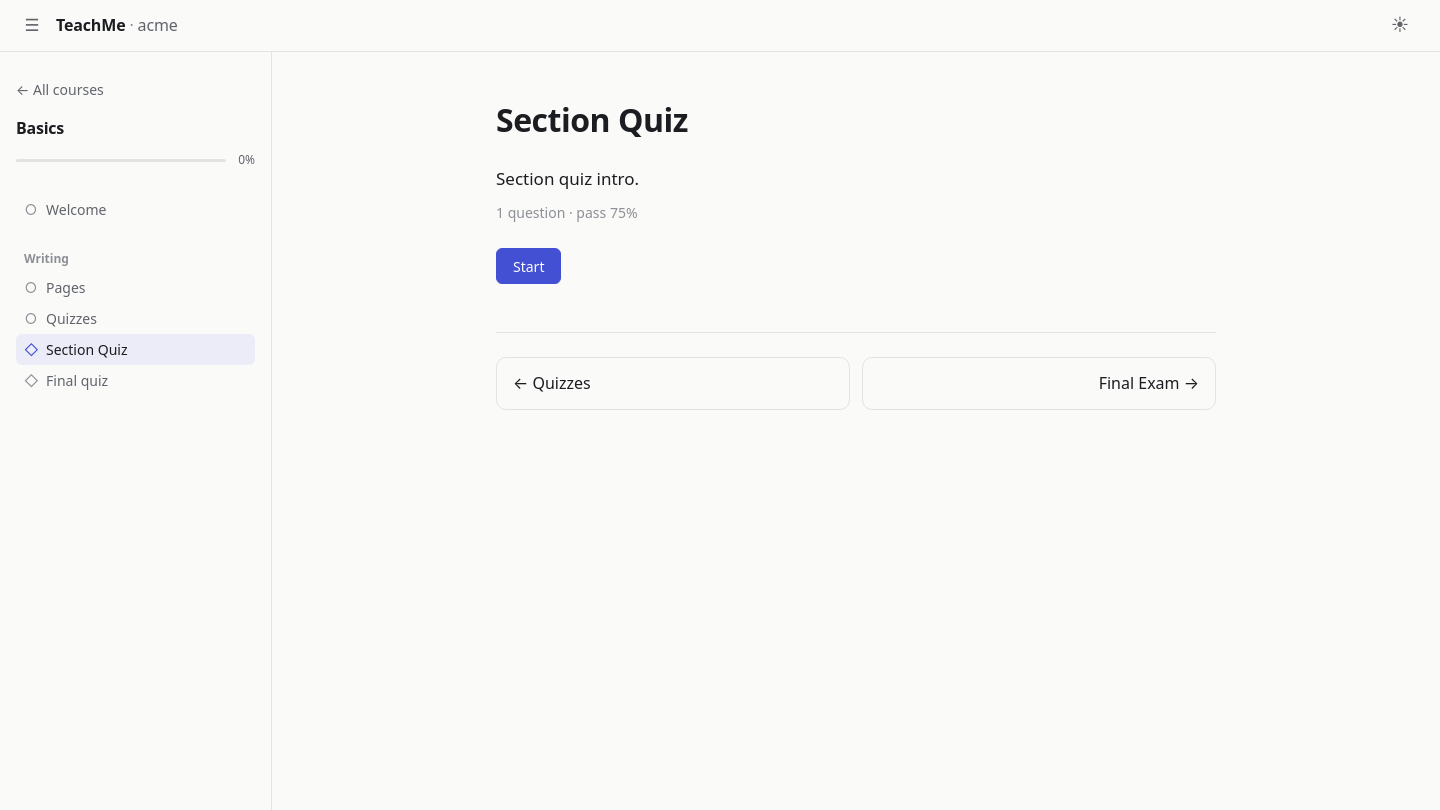
Test: CourseView › quiz item runs inline and Continue moves to the next TOC item
Expected: the heading "Section Quiz" is shown, [496,98,688,141]
Expected: the element with id "course-toc" is shown, [0,52,272,809]
Click the button "Start": (529, 266) [496,248,561,284]
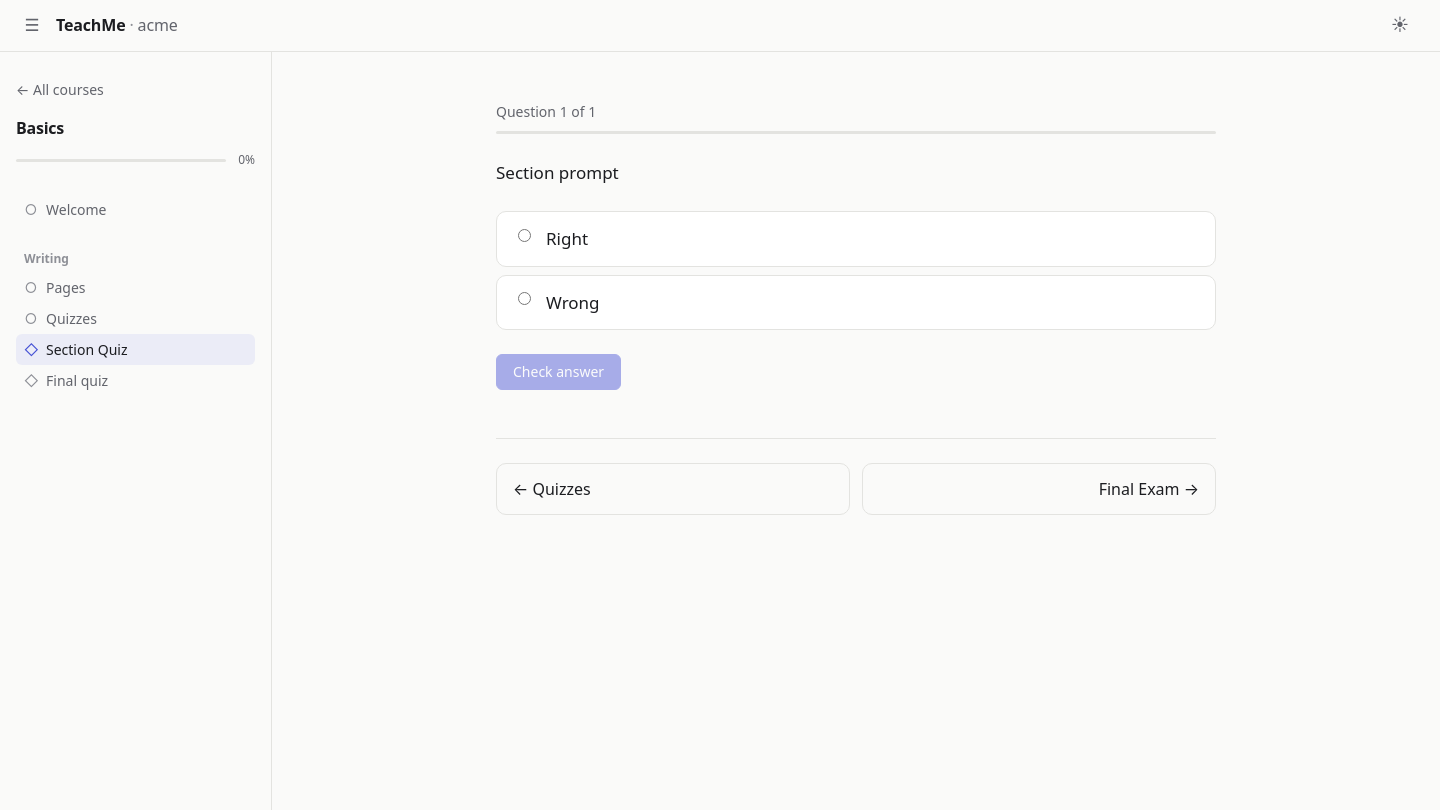
Result: the text "Question 1 of 1" is shown at [496,102,596,121]
Click the radio button labelled "Right": (524, 236) [518,229,531,242]
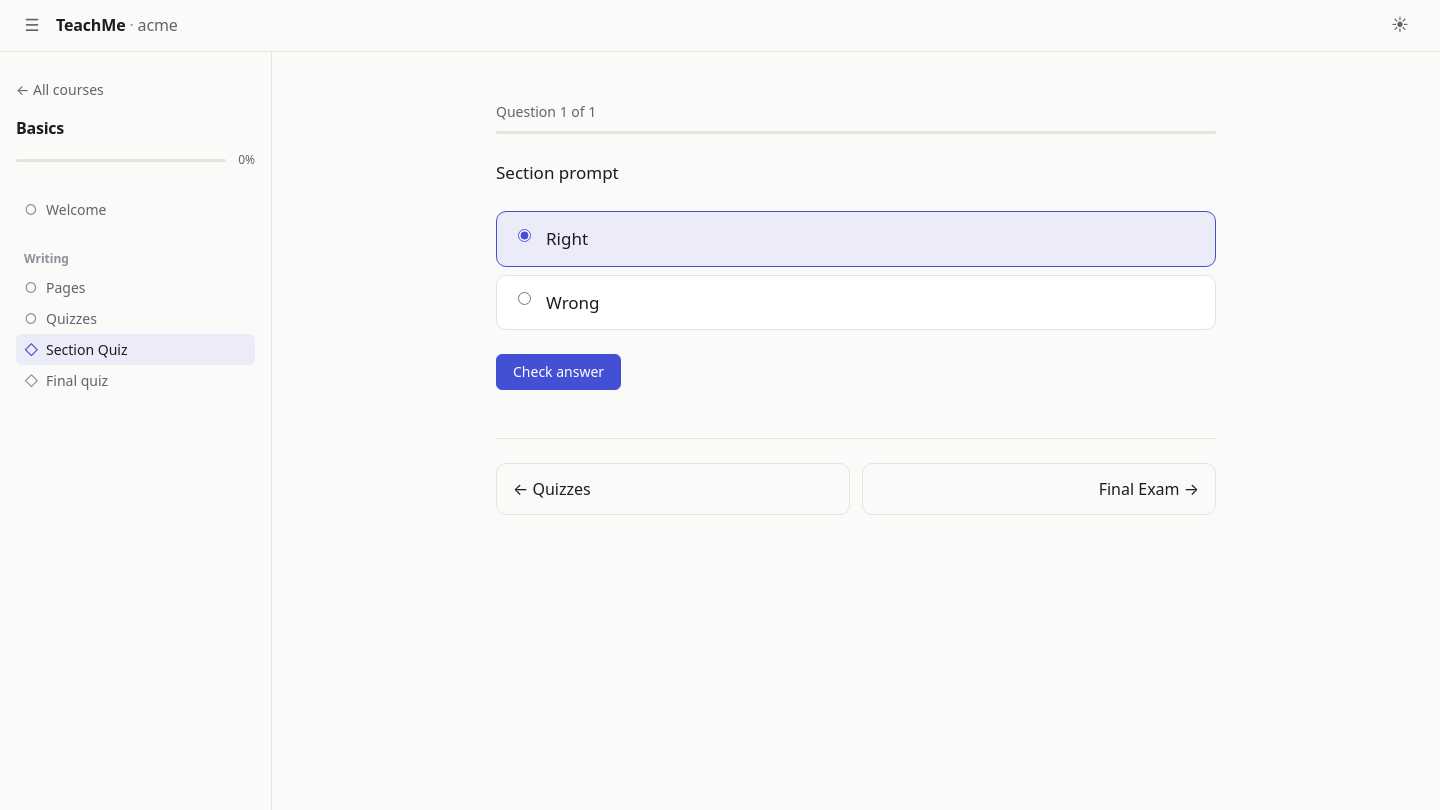
Click the button "Check answer": (559, 372) [496,354,621,390]
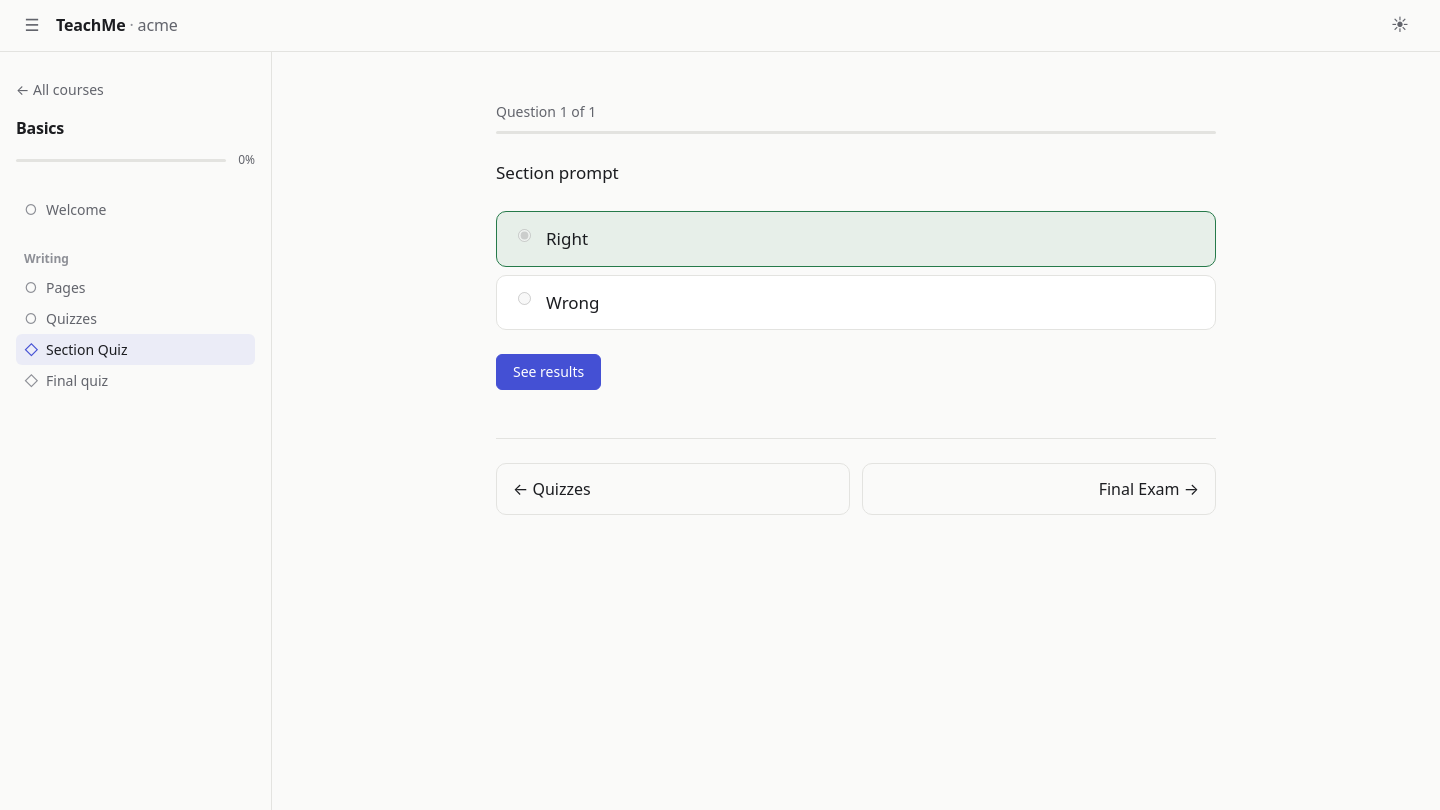
Click the button "See results": (549, 372) [496,354,601,390]
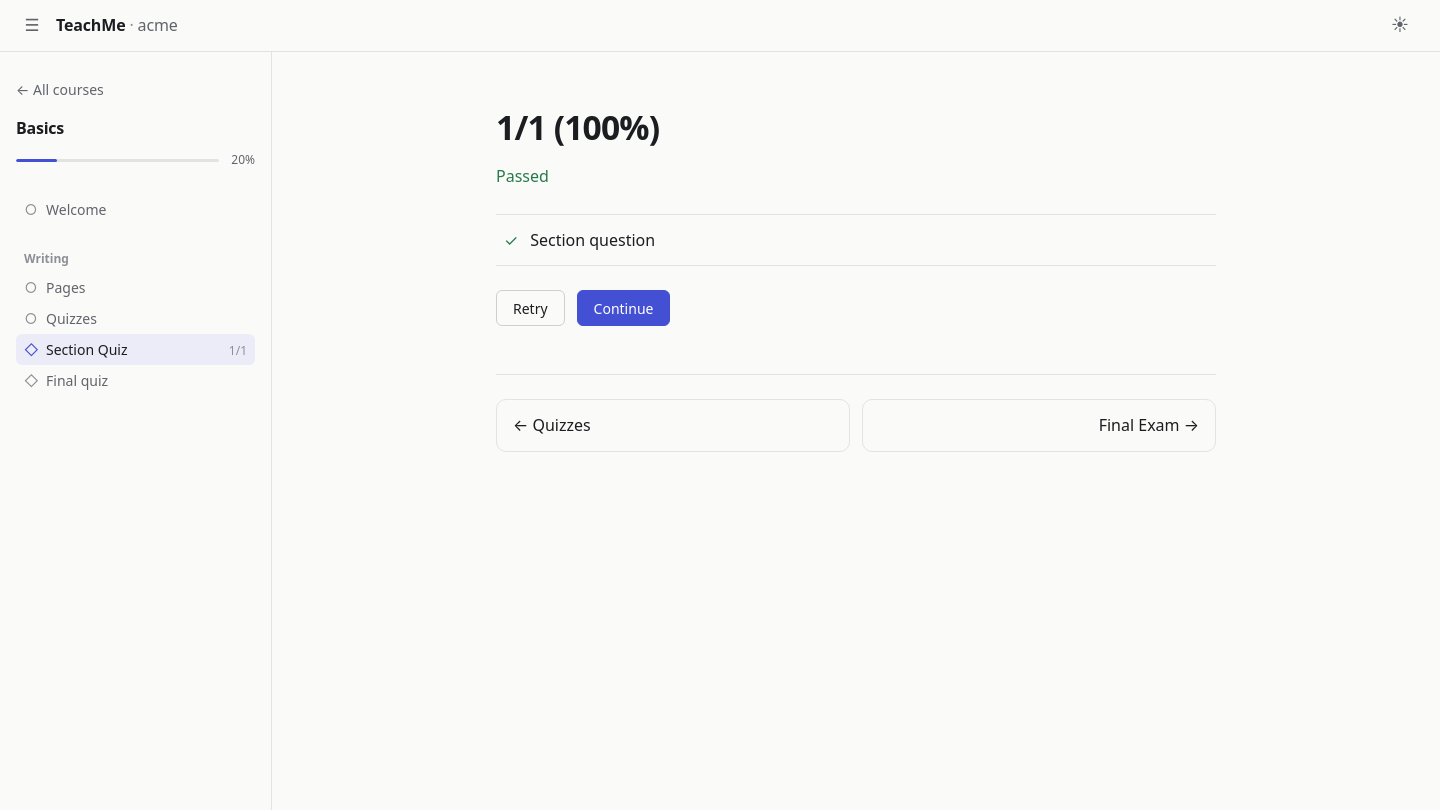
Click the button "Continue": (624, 308) [577,290,670,326]
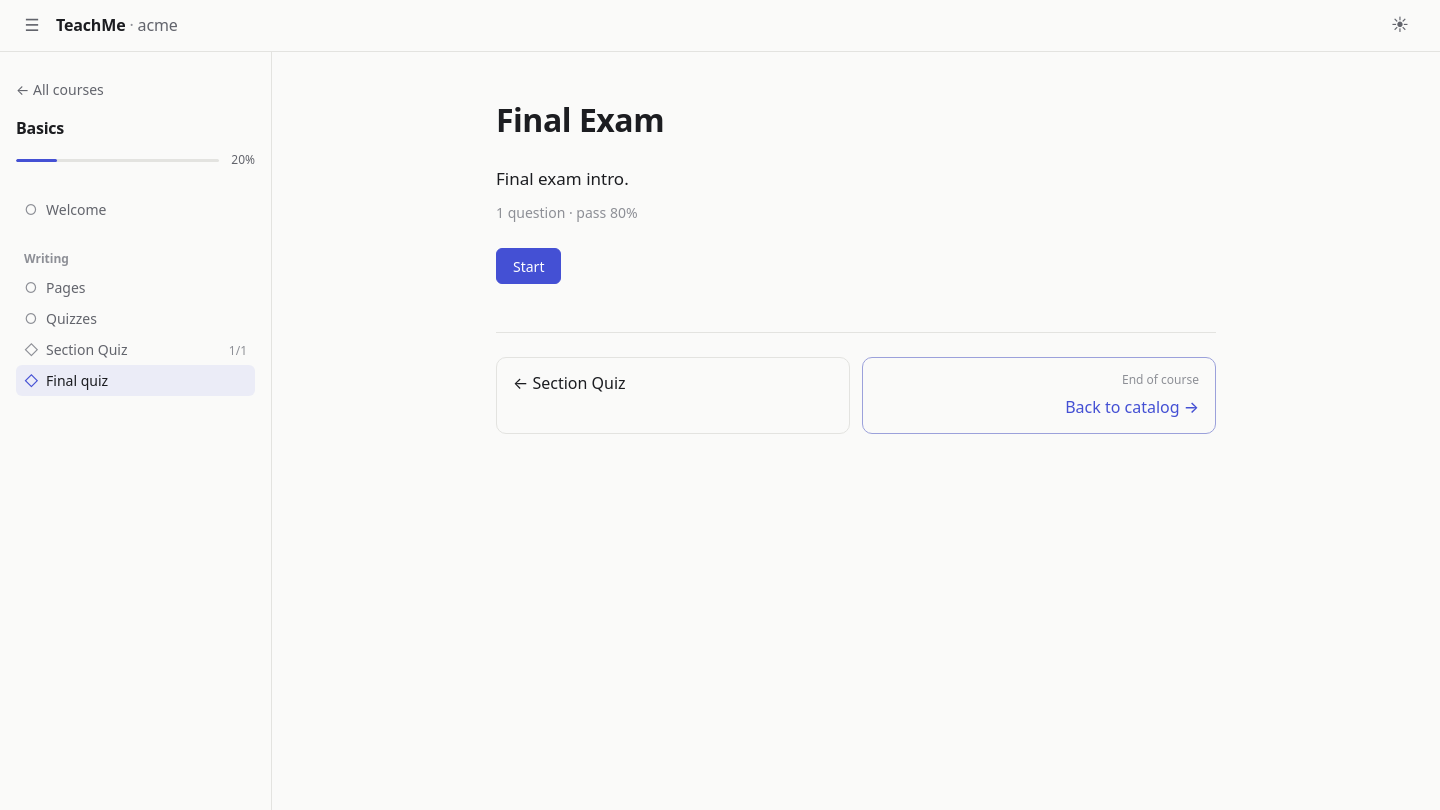
Result: the heading "Final Exam" is shown at [496,98,664,141]
